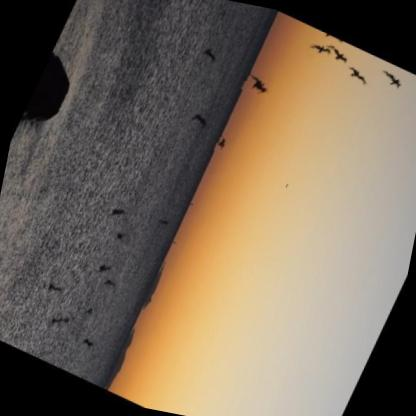bird: (239, 71, 273, 99), (102, 199, 133, 227), (38, 275, 69, 301), (375, 68, 408, 92), (341, 64, 374, 88), (302, 37, 335, 61), (320, 44, 353, 66), (42, 309, 69, 334), (196, 44, 225, 67), (90, 258, 119, 281), (186, 110, 213, 132), (95, 274, 120, 295), (78, 303, 100, 322), (109, 227, 131, 246), (151, 213, 174, 231), (213, 134, 232, 155), (76, 336, 98, 351)
